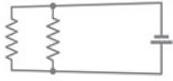resistor: (40, 14, 66, 60), (0, 15, 22, 63)
